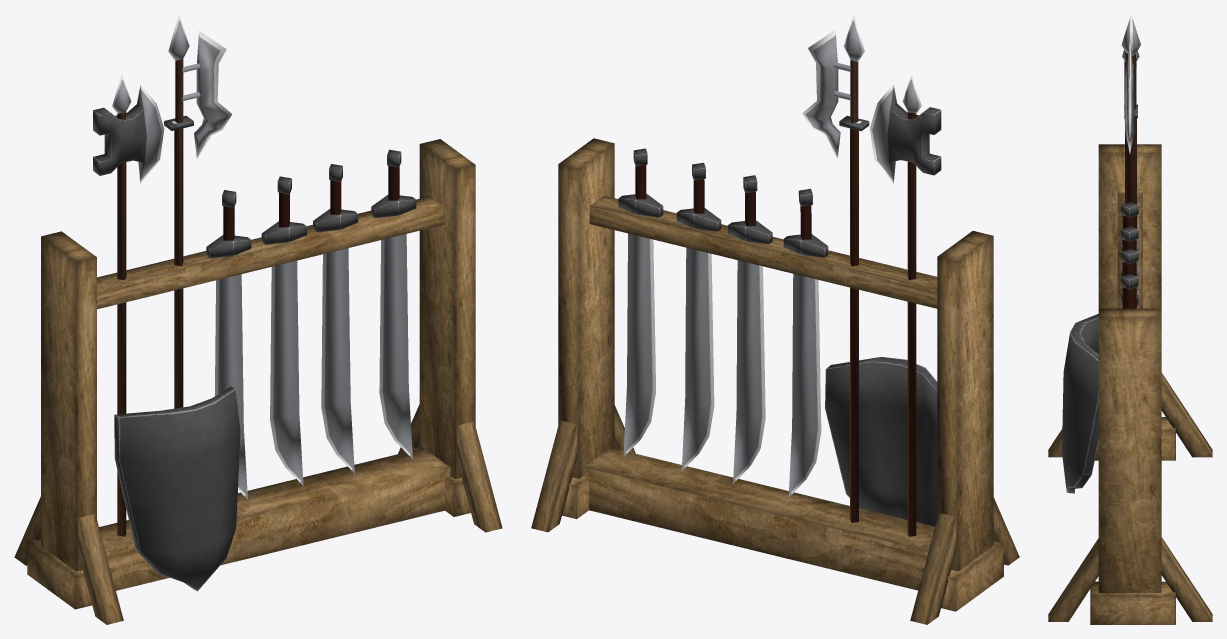
Rendered from Weapon_4.FBX.
The picture shows the model from 3 angles, left to right: view 1: azimuth 30°, elevation 25°; view 2: azimuth 150°, elevation 25°; view 3: azimuth 270°, elevation 25°; orthographic projection. The views are drawn at different scales.
Visible parts, largest first — view 1: Weapon_4; view 2: Weapon_4; view 3: Weapon_4.
Boxes of the visible parts, box(x1,y1,x2,y2) form: Weapon_4: box(14, 14, 502, 624); Weapon_4: box(531, 14, 1019, 624); Weapon_4: box(1048, 14, 1212, 624).
Size of the model in its own units: 66.45 by 84.66 by 25.89.
